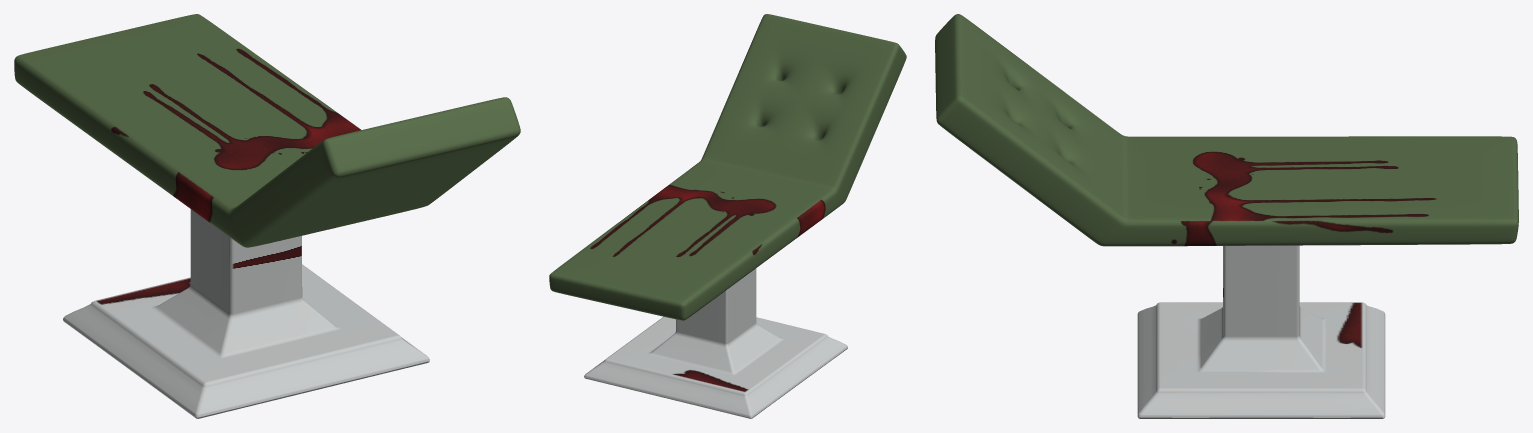
The model's file is operationbed.fbx.
The picture shows the model from 3 angles, left to right: view 1: azimuth 30°, elevation 25°; view 2: azimuth 150°, elevation 25°; view 3: azimuth 270°, elevation 25°; orthographic projection. The views are drawn at different scales.
Parts seen in each view (by area): view 1: pCube3, pCube2; view 2: pCube3, pCube2; view 3: pCube3, pCube2.
Boxes of the visible parts, x1,y1,x2,y2 form: pCube3: (14, 14, 520, 247); pCube2: (63, 209, 429, 418); pCube3: (549, 14, 906, 320); pCube2: (584, 268, 847, 418); pCube3: (935, 14, 1518, 246); pCube2: (1137, 245, 1385, 418).
Size of the model in its own units: 1.63 by 2.29 by 3.83.
2 materials, 2 textured.
